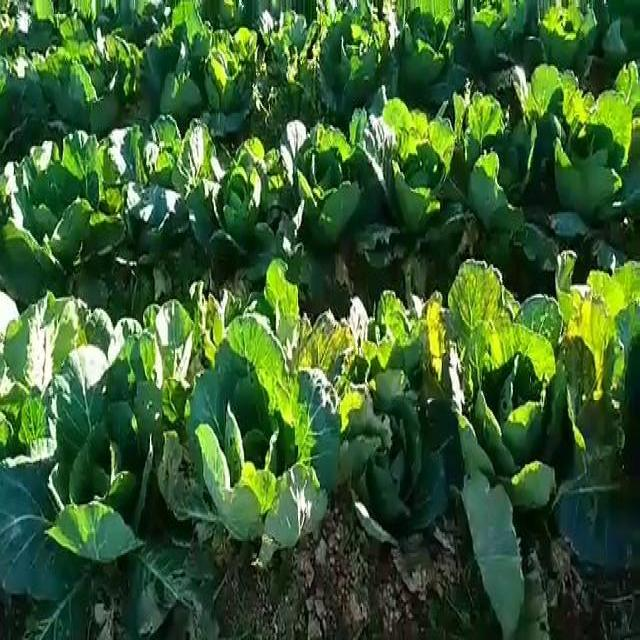Cabbage: (202, 332, 334, 543), (46, 344, 169, 545), (349, 324, 459, 536), (465, 329, 583, 513), (7, 273, 96, 414), (563, 232, 640, 366), (18, 188, 129, 272), (457, 131, 534, 251), (382, 85, 458, 200), (287, 122, 364, 224), (447, 240, 525, 339), (250, 241, 320, 346), (212, 132, 280, 240), (580, 40, 640, 155), (319, 2, 384, 99), (516, 36, 579, 134), (131, 280, 197, 369), (124, 160, 189, 249), (199, 14, 257, 113), (37, 29, 107, 111), (104, 10, 156, 104), (193, 267, 249, 354), (44, 104, 97, 195), (401, 3, 459, 76), (458, 66, 514, 136), (139, 100, 189, 175), (183, 102, 229, 182), (263, 63, 321, 124), (150, 2, 214, 57), (1, 134, 43, 214), (539, 1, 604, 48), (90, 110, 142, 168), (473, 2, 535, 50), (0, 41, 35, 121), (264, 6, 304, 60)
